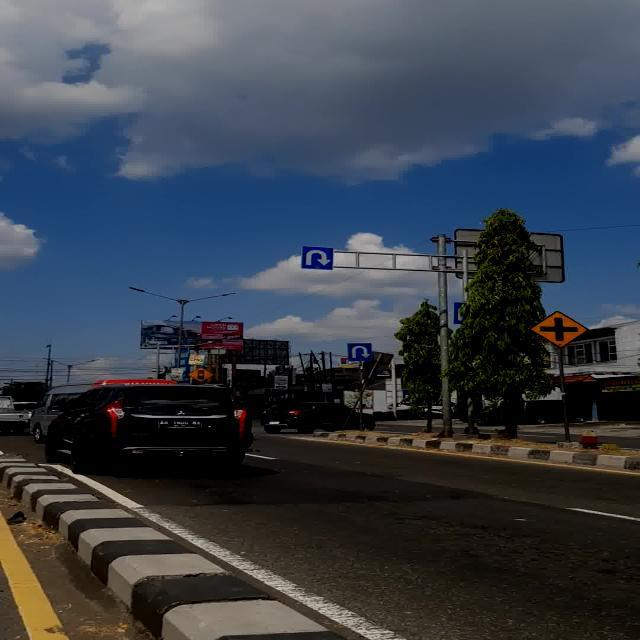Persimpangan 4: (528, 311, 589, 348)
Putar Balik: (302, 246, 334, 270), (347, 343, 372, 361)
